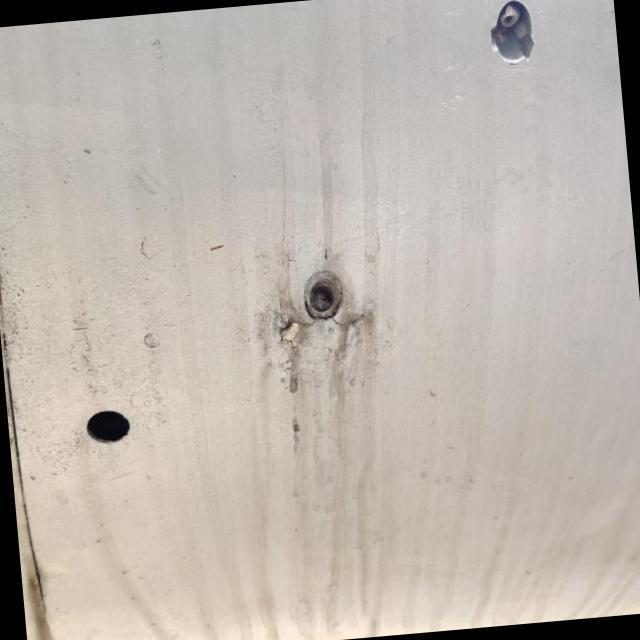Rupture: (264, 310, 310, 357)
